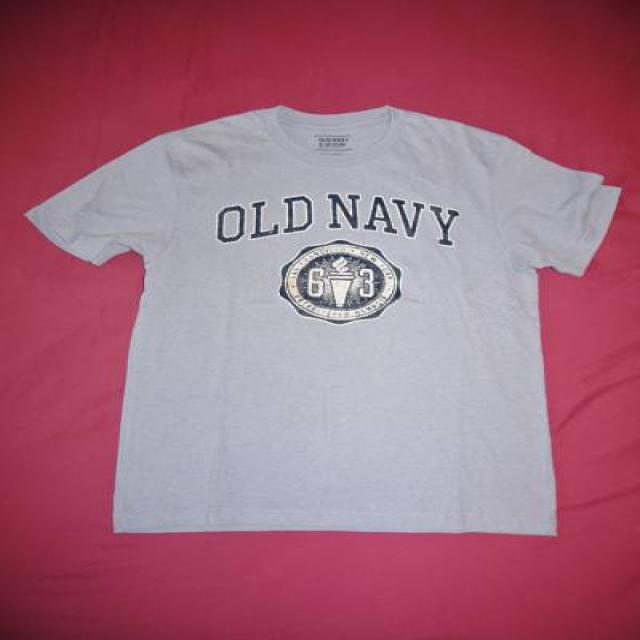shirt: (25, 104, 620, 536)
